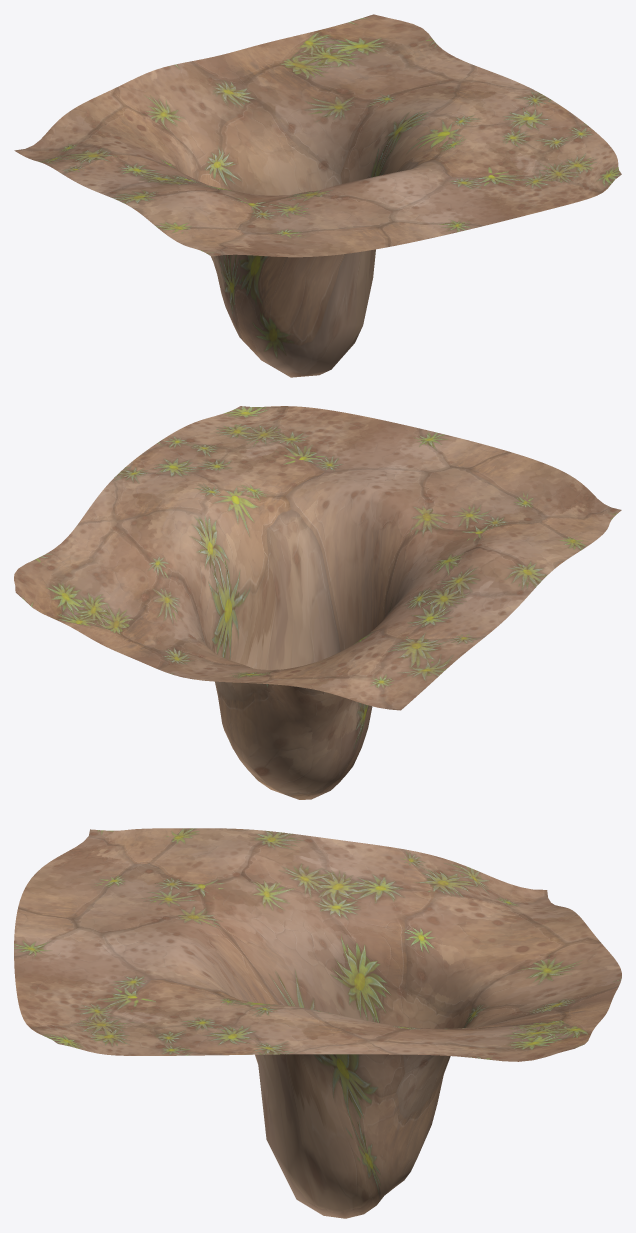
File: ground.fbx
3 renders of one model, top to bottom at view 1: azimuth 30°, elevation 25°; view 2: azimuth 150°, elevation 25°; view 3: azimuth 270°, elevation 25°, orthographic. The views are drawn at different scales.
Parts seen in each view (by area): view 1: Plane; view 2: Plane; view 3: Plane.
Part boxes in pixels (x1,y1,x2,y2): Plane: [14, 14, 621, 377]; Plane: [14, 406, 621, 799]; Plane: [14, 828, 621, 1218].
Size of the model in its own units: 192 by 107 by 216.
Materials: 1 (1 with a texture image).
